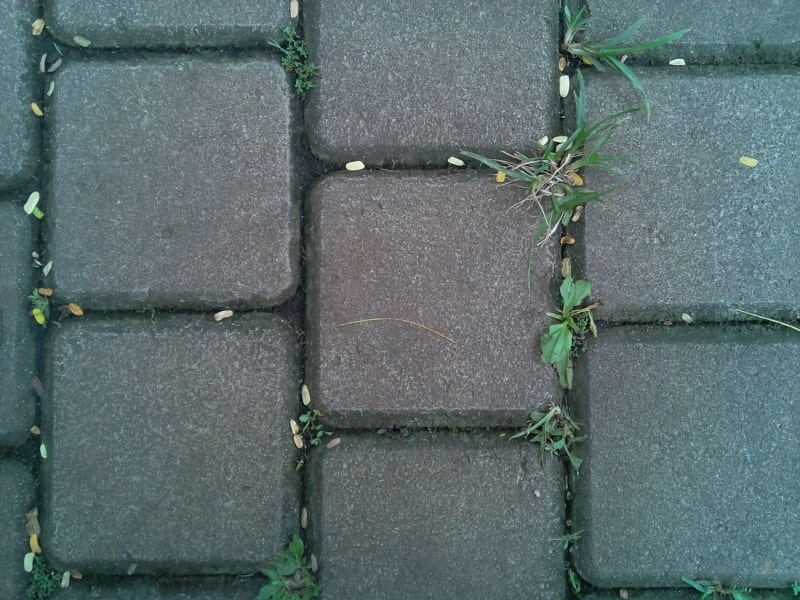Weed: (479, 107, 634, 229), (560, 6, 679, 122), (536, 279, 595, 388), (521, 405, 588, 470), (256, 540, 327, 600), (276, 30, 318, 101), (681, 575, 756, 600), (295, 409, 327, 460), (27, 560, 60, 596), (27, 287, 57, 324), (566, 565, 586, 592), (557, 535, 582, 554)
